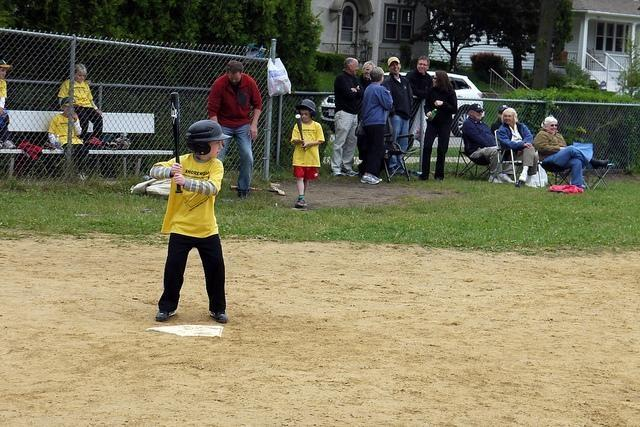car: (448, 74, 482, 137)
